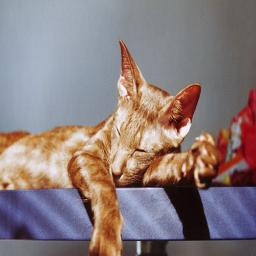catnose: (110, 160, 124, 178)
